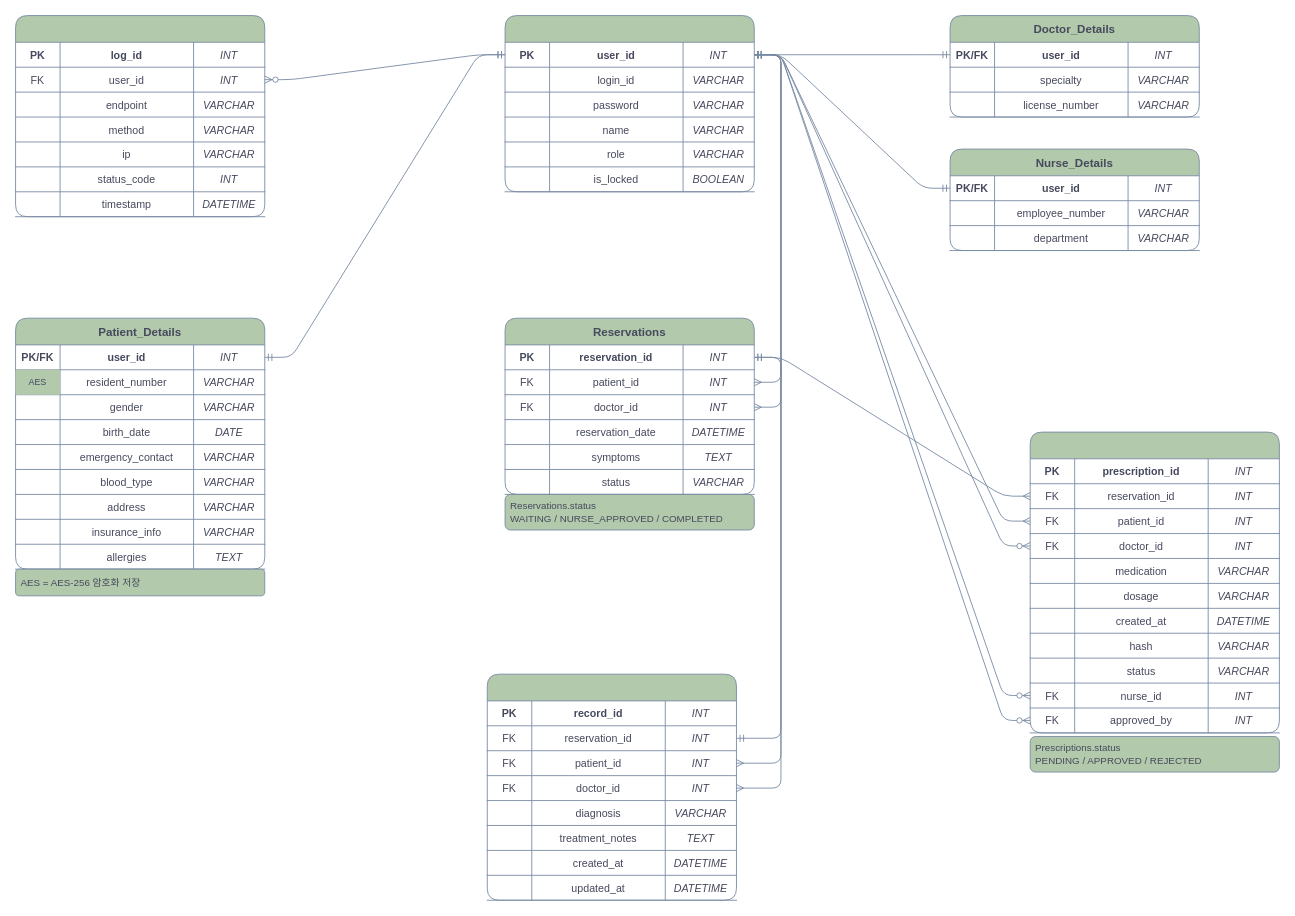
Image size: 1295x916. Some labels were removed from this diagram. The shapes that lost their labels are listed below. From the top down, each one's box as (x1, y1, x2, y2) in pixels, then its label:
(15, 15, 265, 217): AuditLog
(504, 15, 754, 192): Users
(1029, 431, 1279, 733): Prescriptions
(486, 673, 736, 900): Medical_Records
